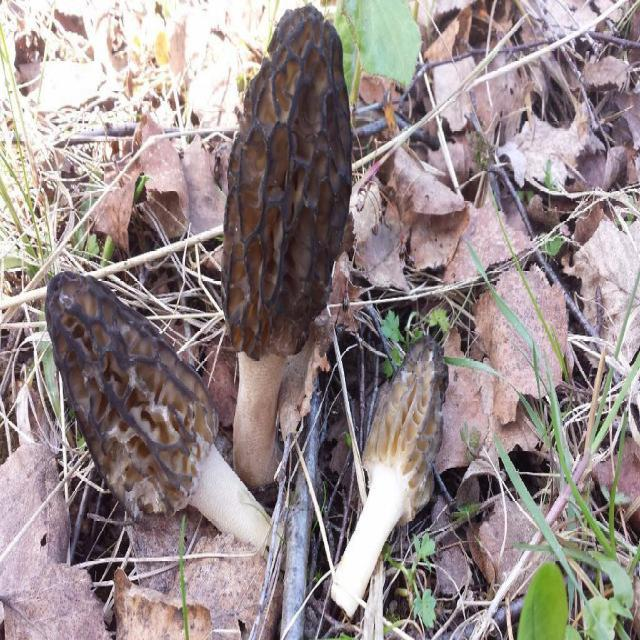Morchella esculenta: (45, 268, 274, 548), (218, 9, 353, 479), (328, 328, 448, 618)
